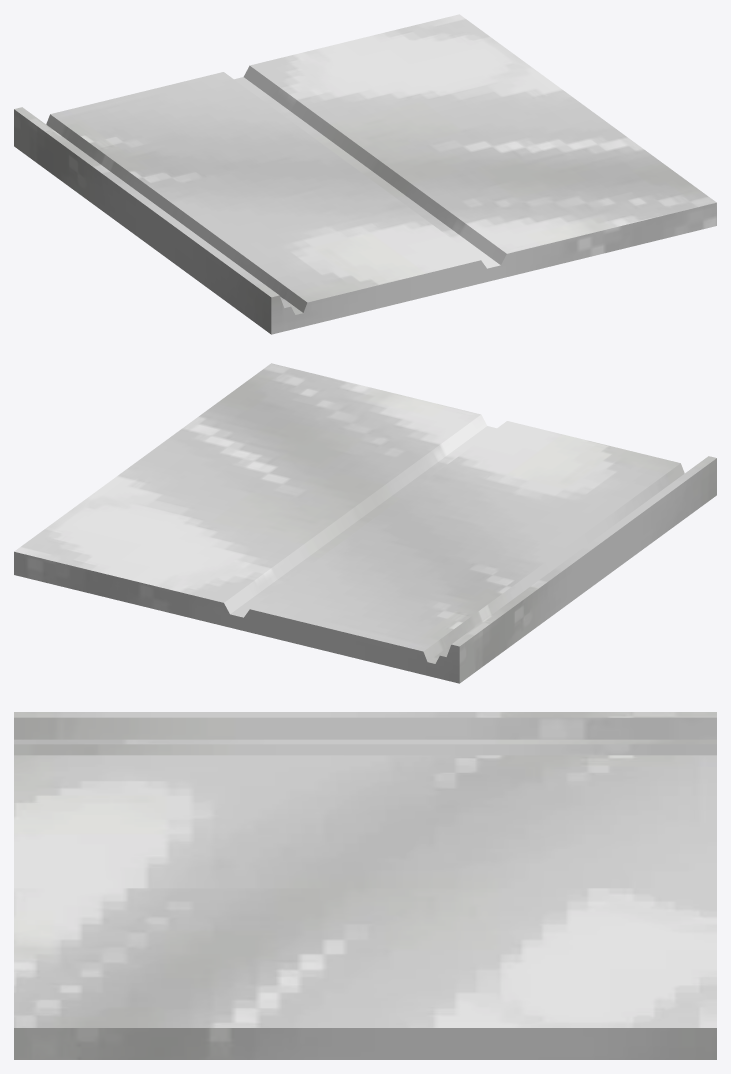
File: StraightSideFloor.fbx
3 views of the same model, one above another, from view 1: azimuth 30°, elevation 25°; view 2: azimuth 150°, elevation 25°; view 3: azimuth 270°, elevation 25° (orthographic). The views are drawn at different scales.
Parts seen in each view (by area): view 1: pCube186; view 2: pCube186; view 3: pCube186.
Boxes of the visible parts, bbox=[...] form: pCube186: bbox=[14, 14, 716, 334]; pCube186: bbox=[14, 363, 716, 683]; pCube186: bbox=[14, 712, 716, 1059].
Bounding box in the file's own units: 500 × 39.94 × 500.
1 material, 1 textured.
